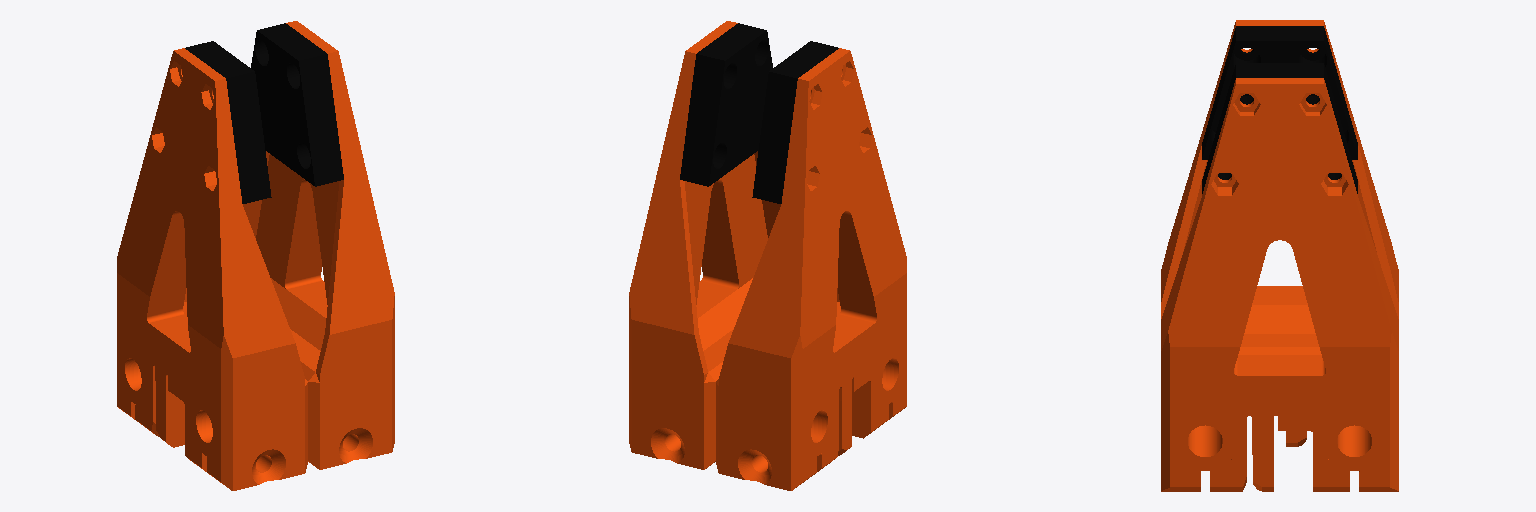
URDF robot description (pdz_gripper):
<?xml version="1.0" ?>
<!-- =================================================================================== -->
<!-- |    This document was autogenerated by xacro from /tmp/pdz_gripper_install/share/pdz_gripper_description/urdf/pdz_gripper.urdf.xacro | -->
<!-- |    EDITING THIS FILE BY HAND IS NOT RECOMMENDED                                 | -->
<!-- =================================================================================== -->
<robot name="pdz_gripper">
  <material name="aluminum">
    <color rgba="0.5 0.5 0.5 1"/>
  </material>
  <material name="plastic">
    <color rgba="0.1 0.1 0.1 1"/>
  </material>
  <link name="world"/>
  <joint name="pdz_gripper_mount_joint" type="fixed">
    <parent link="world"/>
    <child link="pdz_gripper_base_link"/>
    <origin rpy="0 0 0" xyz="0 0 0"/>
  </joint>
  <link name="pdz_gripper_base_link">
    <visual>
      <geometry>
        <mesh filename="package://pdz_gripper_description/meshes/visual/base.stl" scale="0.001 0.001 0.001"/>
      </geometry>
      <material name="pdz_gripper_dark_grey">
        <color rgba="0.22 0.25 0.29 1.0"/>
      </material>
    </visual>
    <collision>
      <geometry>
        <mesh filename="package://pdz_gripper_description/meshes/collision/base.stl" scale="0.001 0.001 0.001"/>
      </geometry>
    </collision>
  </link>
  <link name="pdz_gripper_left_finger_link">
    <visual>
      <geometry>
        <mesh filename="package://pdz_gripper_description/meshes/visual/left_finger.stl" scale="0.001 0.001 0.001"/>
      </geometry>
      <material name="pdz_gripper_orange">
        <color rgba="0.95 0.36 0.08 1.0"/>
      </material>
    </visual>
    <collision>
      <geometry>
        <mesh filename="package://pdz_gripper_description/meshes/collision/left_finger.stl" scale="0.001 0.001 0.001"/>
      </geometry>
    </collision>
    <visual name="left_tpu_pad">
      <origin rpy="0 0 0" xyz="-0.0 0 0"/>
      <geometry>
        <mesh filename="package://pdz_gripper_description/meshes/visual/left_pad_8mm.stl" scale="0.001 0.001 0.001"/>
      </geometry>
      <material name="pdz_gripper_tpu">
        <color rgba="0.06 0.06 0.06 1.0"/>
      </material>
    </visual>
    <collision name="left_tpu_pad">
      <origin rpy="0 0 0" xyz="-0.0 0 0"/>
      <geometry>
        <mesh filename="package://pdz_gripper_description/meshes/collision/left_pad_8mm.stl" scale="0.001 0.001 0.001"/>
      </geometry>
    </collision>
  </link>
  <joint name="pdz_gripper_left_finger_joint" type="prismatic">
    <parent link="pdz_gripper_base_link"/>
    <child link="pdz_gripper_left_finger_link"/>
    <origin rpy="0 0 0" xyz="0 0 0"/>
    <axis xyz="-1 0 0"/>
    <limit effort="100.0" lower="0.0" upper="0.032" velocity="0.05"/>
  </joint>
  <link name="pdz_gripper_right_finger_link">
    <visual>
      <geometry>
        <mesh filename="package://pdz_gripper_description/meshes/visual/right_finger.stl" scale="0.001 0.001 0.001"/>
      </geometry>
      <material name="pdz_gripper_orange">
        <color rgba="0.95 0.36 0.08 1.0"/>
      </material>
    </visual>
    <collision>
      <geometry>
        <mesh filename="package://pdz_gripper_description/meshes/collision/right_finger.stl" scale="0.001 0.001 0.001"/>
      </geometry>
    </collision>
    <visual name="right_tpu_pad">
      <origin rpy="0 0 0" xyz="0.0 0 0"/>
      <geometry>
        <mesh filename="package://pdz_gripper_description/meshes/visual/right_pad_8mm.stl" scale="0.001 0.001 0.001"/>
      </geometry>
      <material name="pdz_gripper_tpu">
        <color rgba="0.06 0.06 0.06 1.0"/>
      </material>
    </visual>
    <collision name="right_tpu_pad">
      <origin rpy="0 0 0" xyz="0.0 0 0"/>
      <geometry>
        <mesh filename="package://pdz_gripper_description/meshes/collision/right_pad_8mm.stl" scale="0.001 0.001 0.001"/>
      </geometry>
    </collision>
  </link>
  <joint name="pdz_gripper_right_finger_joint" type="prismatic">
    <parent link="pdz_gripper_base_link"/>
    <child link="pdz_gripper_right_finger_link"/>
    <origin rpy="0 0 0" xyz="0 0 0"/>
    <axis xyz="1 0 0"/>
    <limit effort="100.0" lower="0.0" upper="0.032" velocity="0.05"/>
    <mimic joint="pdz_gripper_left_finger_joint" multiplier="1.0" offset="0.0"/>
  </joint>
  <!-- Provisional grasp-center frame at the midpoint of the fingertips. -->
  <link name="pdz_gripper_tcp"/>
  <joint name="pdz_gripper_tcp_joint" type="fixed">
    <parent link="pdz_gripper_base_link"/>
    <child link="pdz_gripper_tcp"/>
    <origin rpy="0 0 0" xyz="0 0 0.1505"/>
  </joint>
  <!-- camera body, with origin at bottom screw mount -->
  <joint name="camera_joint" type="fixed">
    <origin rpy="3.141592653589793 -0.9599310885968813 1.5707963267948966" xyz="0 -0.104939510905 0.050762249677"/>
    <parent link="pdz_gripper_base_link"/>
    <child link="camera_bottom_screw_frame"/>
  </joint>
  <link name="camera_bottom_screw_frame"/>
  <joint name="camera_link_joint" type="fixed">
    <origin rpy="0 0 0" xyz="0.01085 0.009 0.021"/>
    <parent link="camera_bottom_screw_frame"/>
    <child link="camera_link"/>
  </joint>
  <link name="camera_link">
    <visual>
      <!-- the mesh origin is at front plate in between the two infrared camera axes -->
      <origin rpy="1.5707963267948966 0 1.5707963267948966" xyz="0.0038 -0.009 0"/>
      <geometry>
        <mesh filename="package://realsense2_description/meshes/d405.stl" scale="0.001 0.001 0.001"/>
      </geometry>
      <material name="aluminum"/>
    </visual>
    <collision>
      <origin rpy="0 0 0" xyz="-0.0078 -0.009 0"/>
      <geometry>
        <box size="0.023 0.042 0.042"/>
      </geometry>
    </collision>
    <inertial>
      <!-- The following are not reliable values, and should not be used for modeling -->
      <mass value="0.072"/>
      <origin xyz="0 0 0"/>
      <inertia ixx="0.003881243" ixy="0.0" ixz="0.0" iyy="0.000498940" iyz="0.0" izz="0.003879257"/>
    </inertial>
  </link>
  <!-- camera depth joints and links -->
  <joint name="camera_depth_joint" type="fixed">
    <origin rpy="0 0 0" xyz="0 0 0"/>
    <parent link="camera_link"/>
    <child link="camera_depth_frame"/>
  </joint>
  <link name="camera_depth_frame"/>
  <joint name="camera_depth_optical_joint" type="fixed">
    <origin rpy="-1.5707963267948966 0 -1.5707963267948966" xyz="0 0 0"/>
    <parent link="camera_depth_frame"/>
    <child link="camera_depth_optical_frame"/>
  </joint>
  <link name="camera_depth_optical_frame"/>
  <!-- camera left IR joints and links -->
  <joint name="camera_infra1_joint" type="fixed">
    <origin rpy="0 0 0" xyz="0 0.0 0"/>
    <parent link="camera_link"/>
    <child link="camera_infra1_frame"/>
  </joint>
  <link name="camera_infra1_frame"/>
  <joint name="camera_infra1_optical_joint" type="fixed">
    <origin rpy="-1.5707963267948966 0 -1.5707963267948966" xyz="0 0 0"/>
    <parent link="camera_infra1_frame"/>
    <child link="camera_infra1_optical_frame"/>
  </joint>
  <link name="camera_infra1_optical_frame"/>
  <!-- camera right IR joints and links -->
  <joint name="camera_infra2_joint" type="fixed">
    <origin rpy="0 0 0" xyz="0 -0.018 0"/>
    <parent link="camera_link"/>
    <child link="camera_infra2_frame"/>
  </joint>
  <link name="camera_infra2_frame"/>
  <joint name="camera_infra2_optical_joint" type="fixed">
    <origin rpy="-1.5707963267948966 0 -1.5707963267948966" xyz="0 0 0"/>
    <parent link="camera_infra2_frame"/>
    <child link="camera_infra2_optical_frame"/>
  </joint>
  <link name="camera_infra2_optical_frame"/>
  <!-- camera color joints and links -->
  <joint name="camera_color_joint" type="fixed">
    <origin rpy="0 0 0" xyz="0 0.0 0"/>
    <parent link="camera_link"/>
    <child link="camera_color_frame"/>
  </joint>
  <link name="camera_color_frame"/>
  <joint name="camera_color_optical_joint" type="fixed">
    <origin rpy="-1.5707963267948966 0 -1.5707963267948966" xyz="0 0 0"/>
    <parent link="camera_color_frame"/>
    <child link="camera_color_optical_frame"/>
  </joint>
  <link name="camera_color_optical_frame"/>
</robot>

--- What the picture shows (computed from the rendered views, not written in the file) ---
3 views of the same robot in one strip: view 1: azimuth 30°, elevation 25°; view 2: azimuth 150°, elevation 25°; view 3: azimuth 270°, elevation 25° (orthographic).
Robot: pdz_gripper — 15 links, 14 joints (2 prismatic, 12 fixed); root link world; default pose: every joint at zero.
Visible links, largest first — view 1: pdz_gripper_left_finger_link, pdz_gripper_right_finger_link; view 2: pdz_gripper_left_finger_link, pdz_gripper_right_finger_link; view 3: pdz_gripper_right_finger_link, pdz_gripper_left_finger_link.
Boxes of the visible links, box(x1,y1,x2,y2) form: pdz_gripper_left_finger_link: box(117, 41, 307, 490); pdz_gripper_right_finger_link: box(243, 21, 394, 469); pdz_gripper_left_finger_link: box(716, 41, 906, 490); pdz_gripper_right_finger_link: box(629, 21, 780, 469); pdz_gripper_right_finger_link: box(1161, 63, 1398, 491); pdz_gripper_left_finger_link: box(1161, 20, 1398, 446).
Size in the robot's own frame: 0.048 by 0.054 by 0.1 metres.
4 mesh visuals loaded from 6 distinct referenced files (4 binary STL); not drawn: 2 (reference not matched to a file when rendering).
